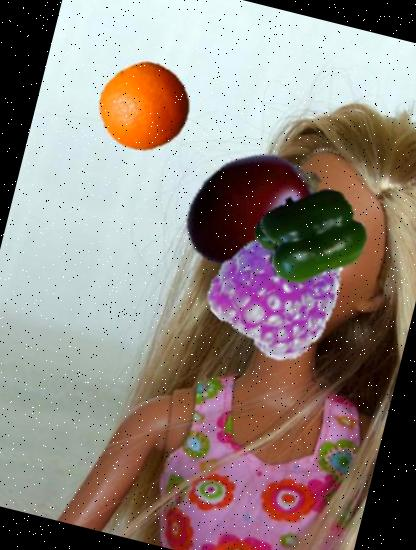Orange: (88, 52, 200, 164)
Pepper: (247, 172, 376, 300)
Raspberry: (204, 216, 358, 370)
Tamarillo: (167, 123, 344, 300)
